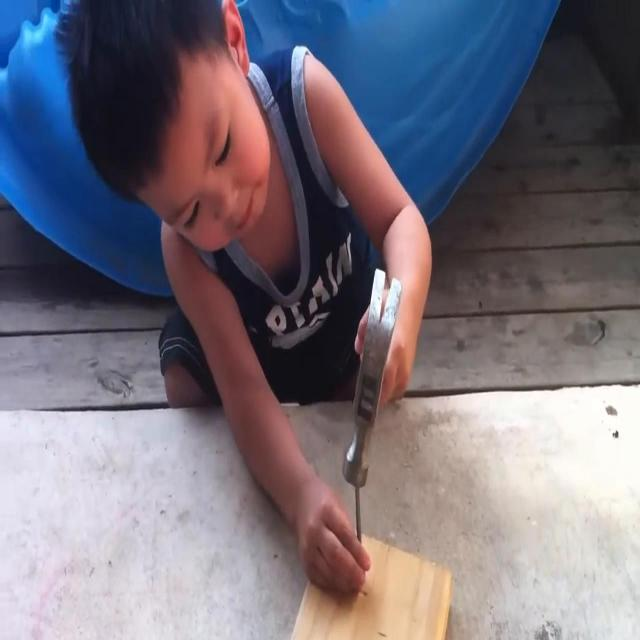hammer: (342, 268, 403, 488)
